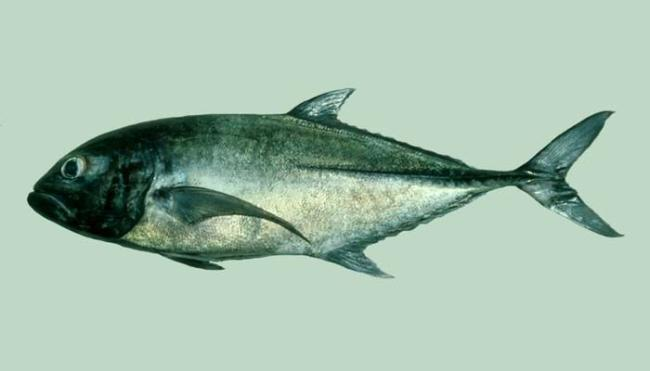fish: (26, 88, 625, 280)
